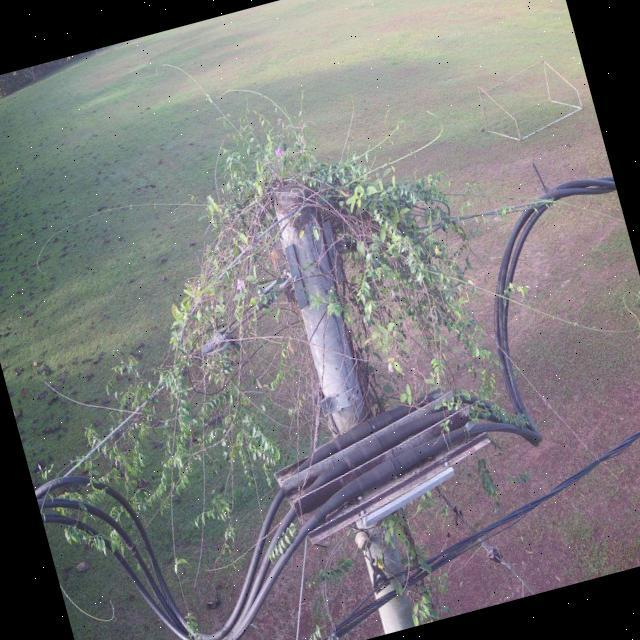critical vegetation: (0, 75, 563, 640)
